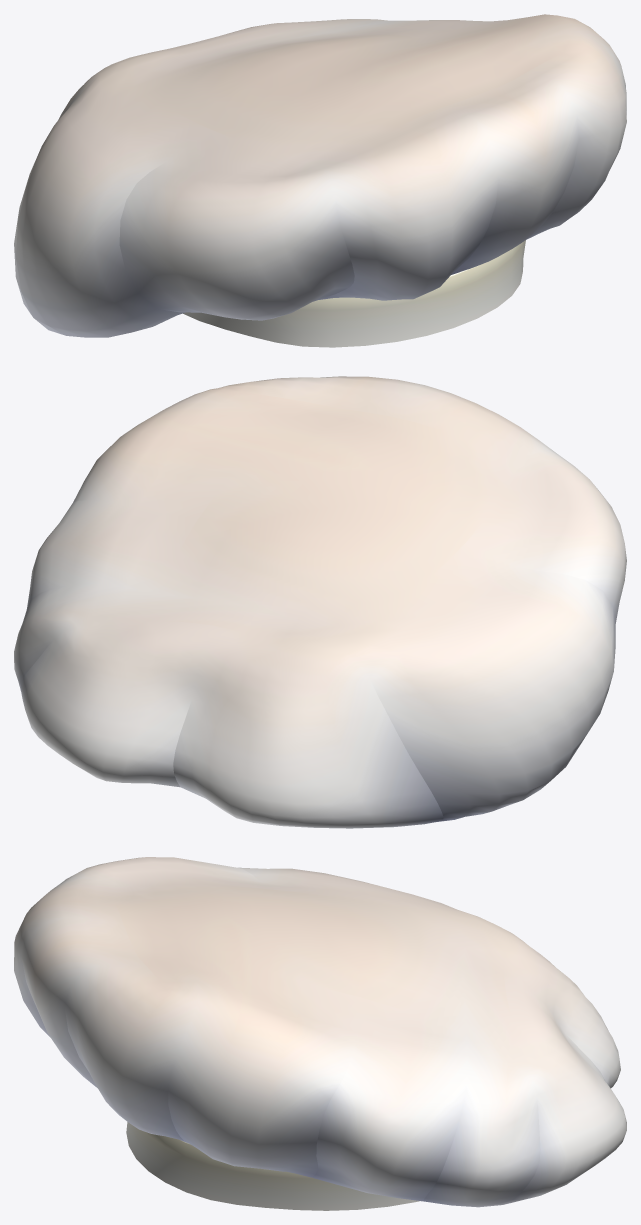
File: Cap_Cheef_Hat.gltf
The picture shows the model from 3 angles, top to bottom: view 1: azimuth 30°, elevation 25°; view 2: azimuth 150°, elevation 25°; view 3: azimuth 270°, elevation 25°; orthographic projection. The views are drawn at different scales.
Visible parts, largest first — view 1: Cap_Cheef_Hat; view 2: Cap_Cheef_Hat; view 3: Cap_Cheef_Hat.
Part boxes in pixels (x1=…): Cap_Cheef_Hat: x1=14, y1=14, x2=626, y2=347; Cap_Cheef_Hat: x1=14, y1=376, x2=626, y2=828; Cap_Cheef_Hat: x1=14, y1=857, x2=626, y2=1210.
Size of the model in its own units: 1.37 by 0.631 by 1.39.
Materials: 2 (2 with a texture image).
